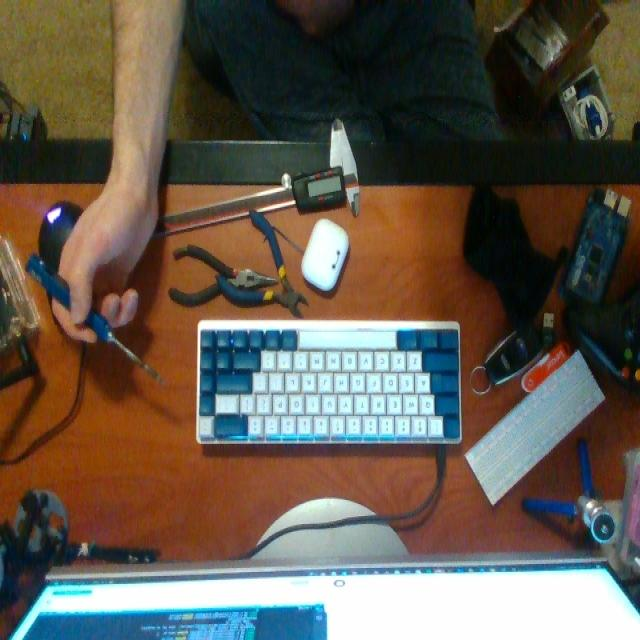keyboard: (198, 324, 461, 441)
